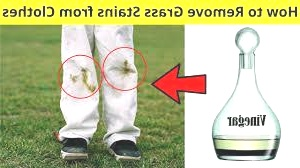earth: (73, 69, 94, 91), (117, 58, 133, 77)
